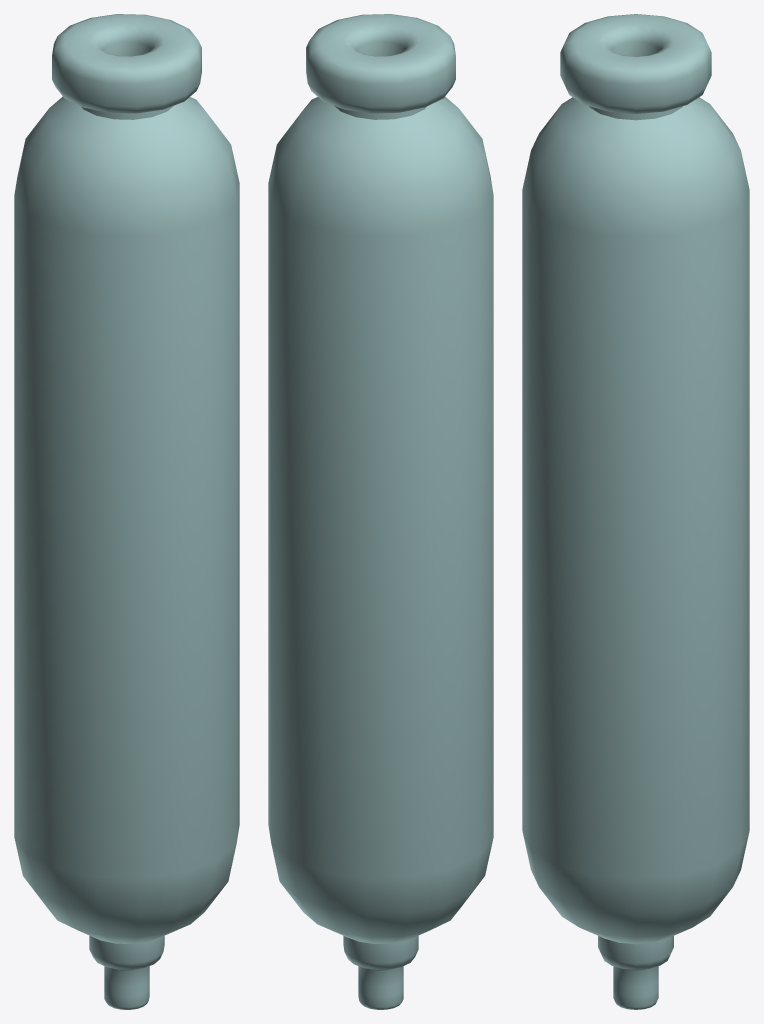
File: LastLuna_Model_Station_Glass_Fractional_Column.fbx
3 renders of one model, left to right at view 1: azimuth 30°, elevation 25°; view 2: azimuth 150°, elevation 25°; view 3: azimuth 270°, elevation 25°, orthographic.
Visible parts, largest first — view 1: Fractional_Column001; view 2: Fractional_Column001; view 3: Fractional_Column001.
Part boxes in pixels (x1=…): Fractional_Column001: x1=14, y1=14, x2=239, y2=1009; Fractional_Column001: x1=268, y1=14, x2=493, y2=1009; Fractional_Column001: x1=522, y1=14, x2=749, y2=1009.
Size of the model in its own units: 45 by 210 by 45.
